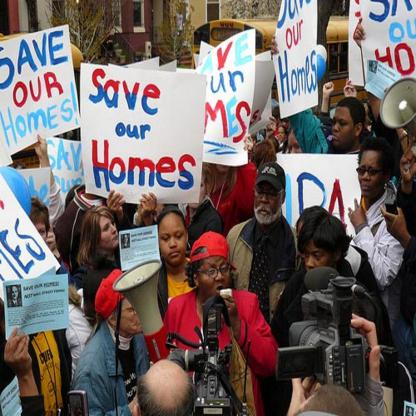face: (303, 238, 336, 284), (199, 255, 231, 301), (160, 217, 189, 266), (361, 150, 388, 195), (255, 179, 282, 223), (332, 106, 357, 151), (116, 300, 144, 338), (21, 220, 46, 259), (98, 215, 122, 252)
